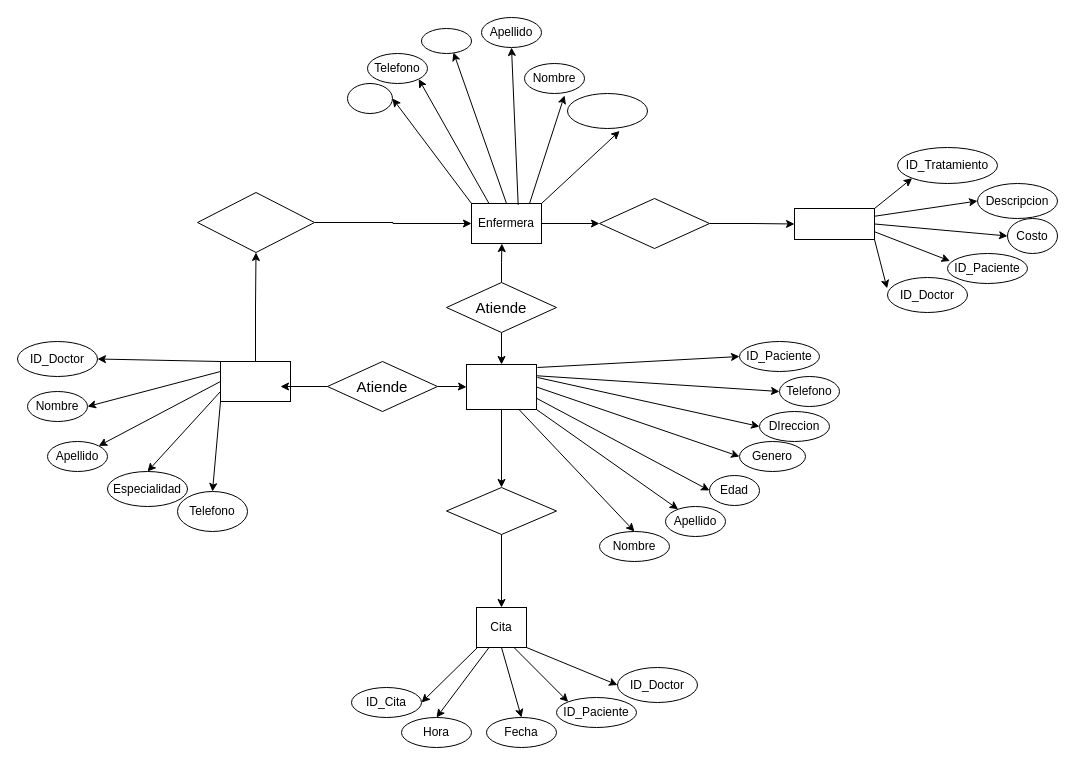
Some shapes in this 1075 by 765 pixel diagram are drawn without their labels. The shapes that lost their labels are listed below. From the top down, each one's box as (x1, y1, x2, y2) in pixels, then its label:
(420, 28, 472, 54): Turno
(346, 82, 392, 114): Piso
(566, 92, 648, 128): ID_Enfermera
(196, 192, 314, 252): Receta Medica
(598, 198, 710, 248): Solicitar
(794, 208, 874, 240): Tratamiento
(220, 360, 290, 402): Doctor
(466, 364, 536, 410): Pacientes
(446, 486, 556, 534): Tener
